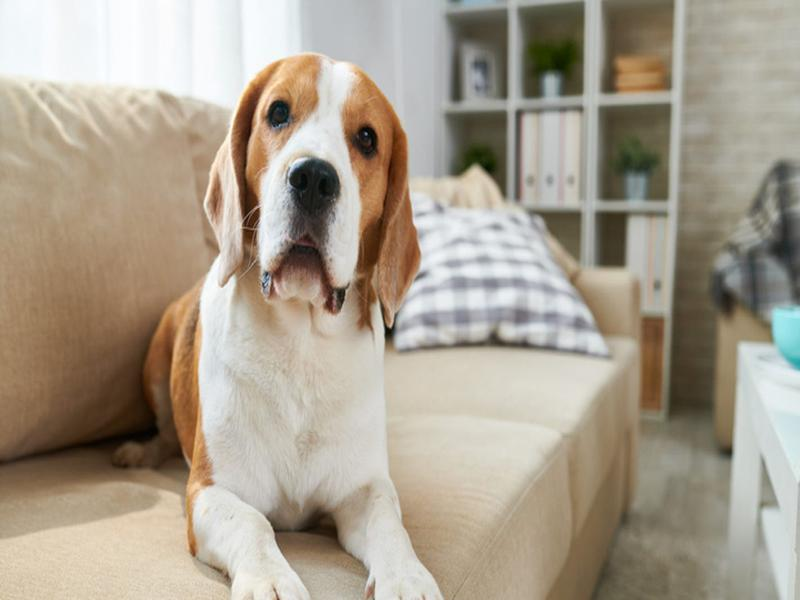dog_down: (135, 53, 442, 600)
